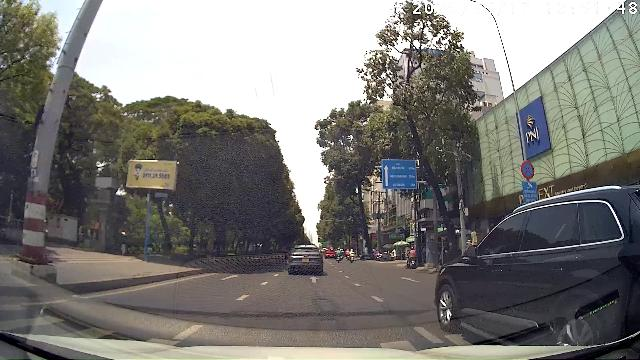130-cam-dung-va-do-xe: (521, 161, 535, 179)
